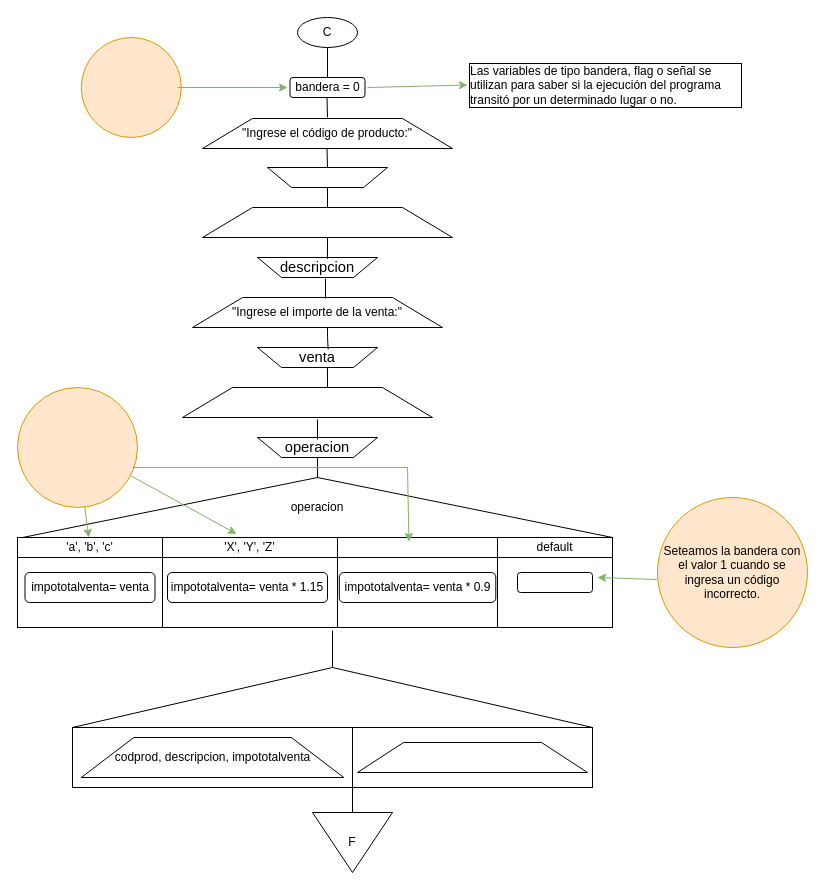
The diagram is 825 pixels wide and 890 high, and some of its shapes have lost their labels. The centre of each missing label's shape, as x and y in pixels:
"Error de código de operación": point (472, 757)
"Ingrese el código de operación:": point (307, 402)
"Ingrese la descripción:": point (327, 222)
'd', 'D': point (417, 547)
bandera = 1: point (554, 582)
bandera == 0: point (332, 697)
codprod: point (327, 177)
Inicializar la variable de tipo bandera, flag o señal en cero.: point (130, 87)
Las constantes de tipo char se colocan entre comillas simples: point (77, 447)
